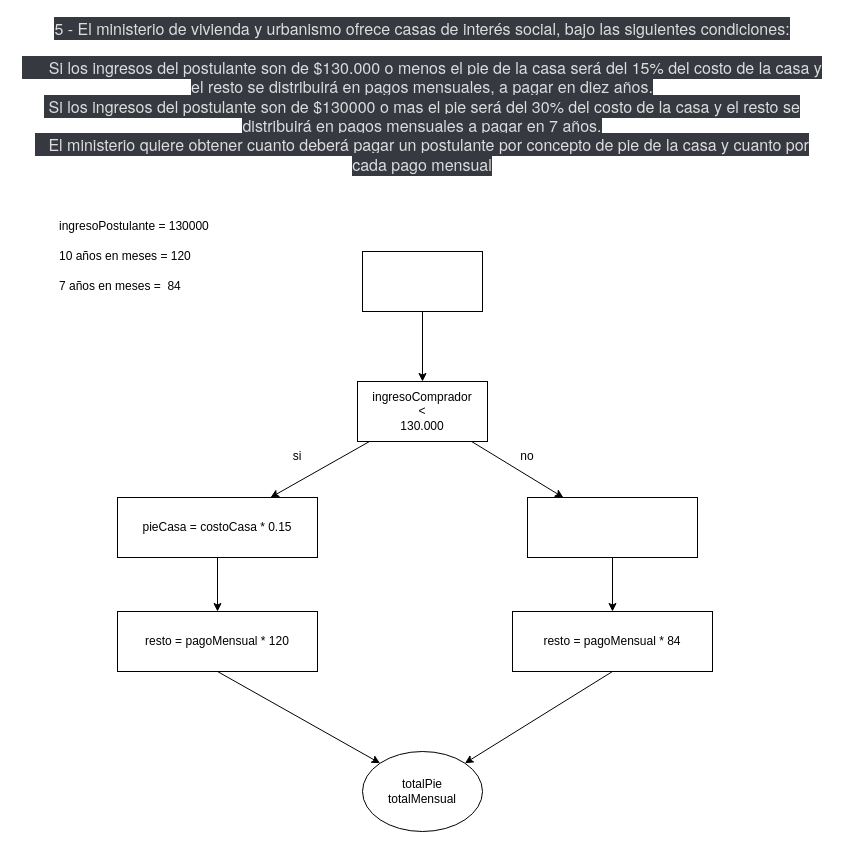
Some shapes in this 844 by 849 pixel diagram are drawn without their labels. The shapes that lost their labels are listed below. From the top down, each one's box as (x1, y1, x2, y2) in pixels, then its label:
(362, 250, 482, 312): CASAS
(526, 496, 698, 558): pieCasa = costoCasa * 0.30
